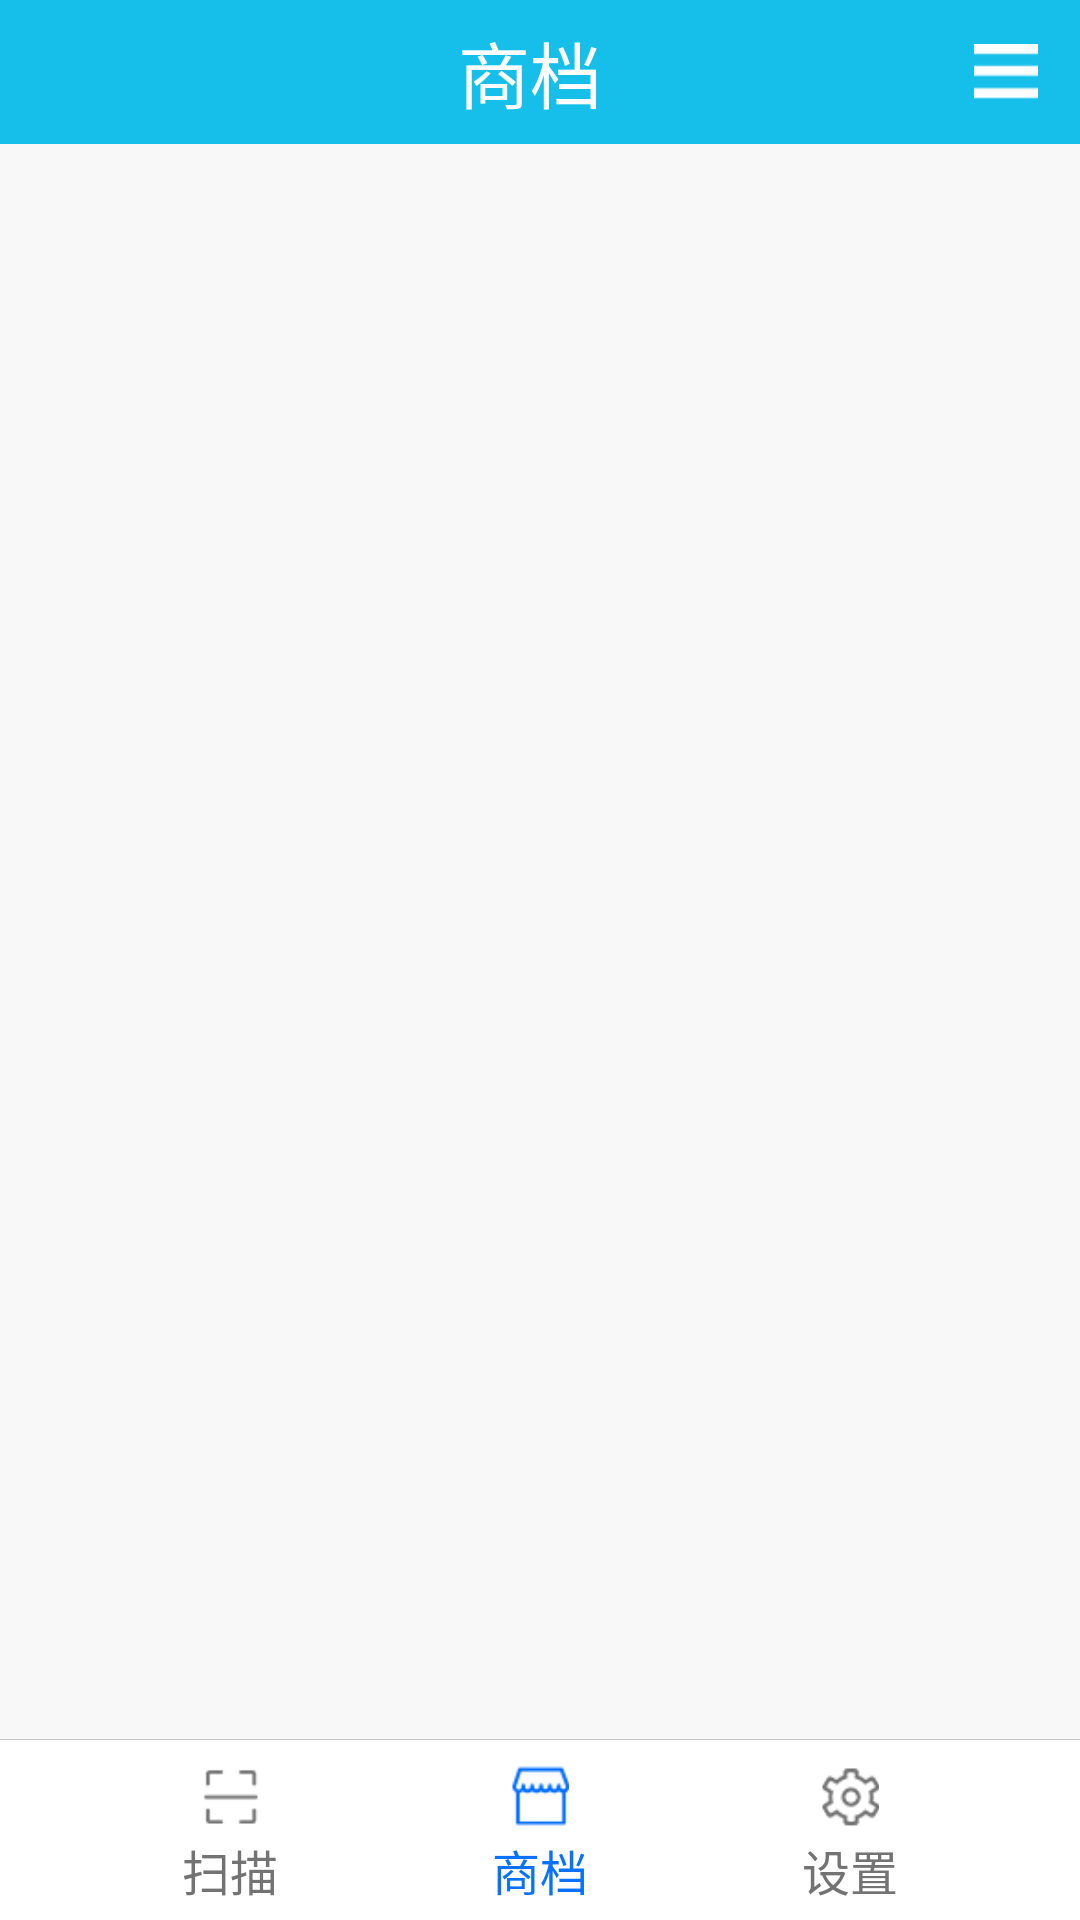

Icons on this 1080*1920 Android screen, each with the point to tap as (x=x, y=y):
更多: (x=1006, y=71)
